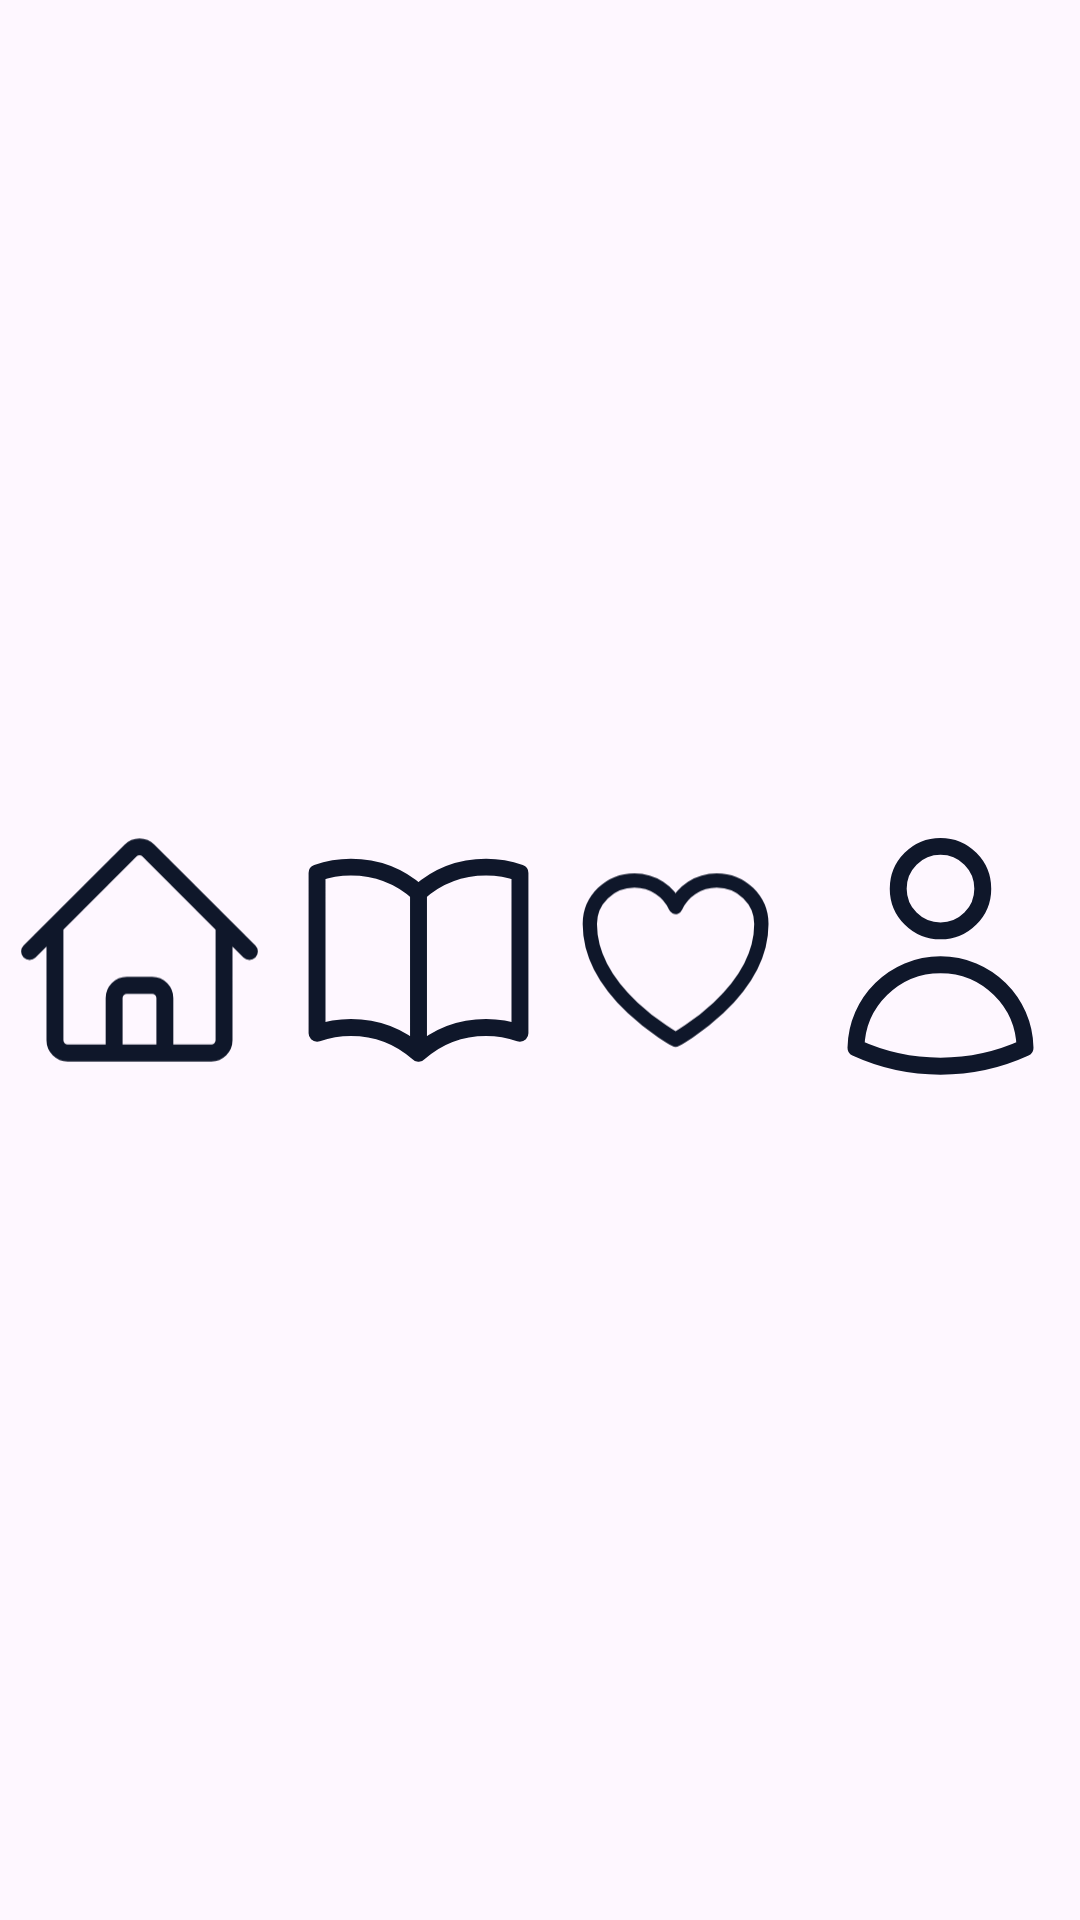

Icon click points for this 1080×1920 phone screenshot, format [x,y]:
book: [418,960]
heart: [675,960]
home: [139,950]
user: [940,956]
